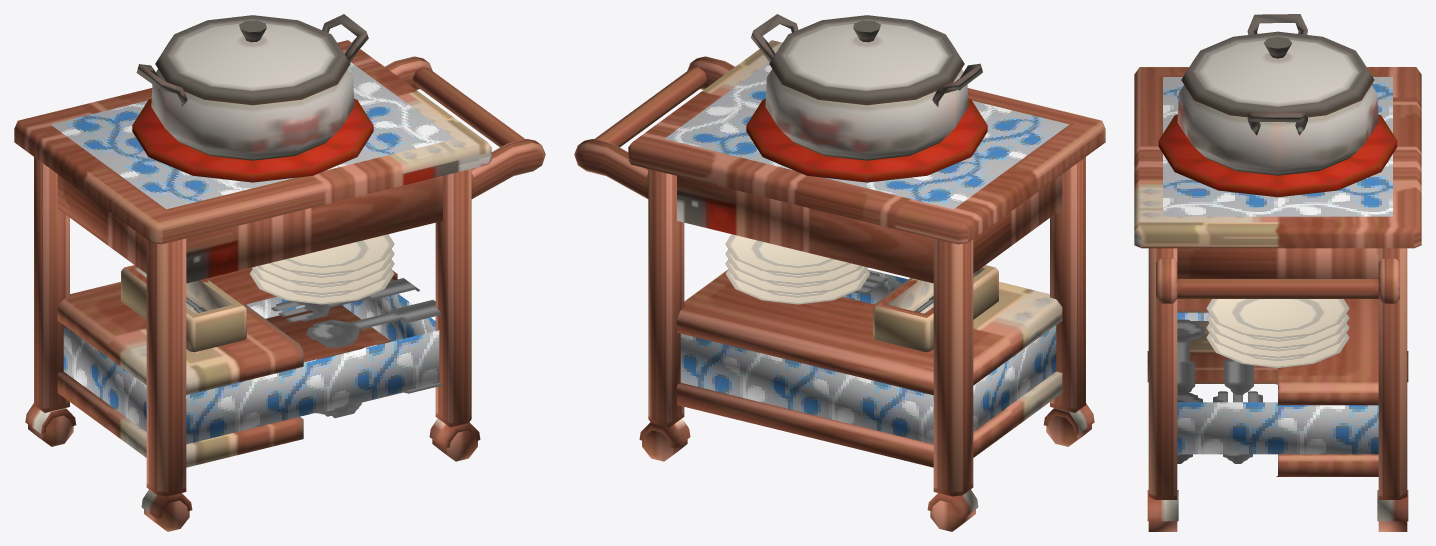
Rendered from rmk_scd_wagon.dae.
3 views of the same model, side by side, from view 1: azimuth 30°, elevation 25°; view 2: azimuth 150°, elevation 25°; view 3: azimuth 270°, elevation 25° (orthographic).
Parts seen in each view (by area): view 1: vsn_mesh_0_, vsn_mesh_1_; view 2: vsn_mesh_0_, vsn_mesh_1_; view 3: vsn_mesh_0_, vsn_mesh_1_.
Boxes of the visible parts, left/top/right/bottom form: vsn_mesh_0_: left=14, top=14, right=545, bottom=531; vsn_mesh_1_: left=50, top=62, right=455, bottom=444; vsn_mesh_0_: left=574, top=14, right=1105, bottom=531; vsn_mesh_1_: left=664, top=62, right=1069, bottom=444; vsn_mesh_0_: left=1134, top=14, right=1421, bottom=531; vsn_mesh_1_: left=1163, top=77, right=1392, bottom=454.
Bounding box in the file's own units: 32.06 × 32 × 20.
2 materials, 2 textured.
